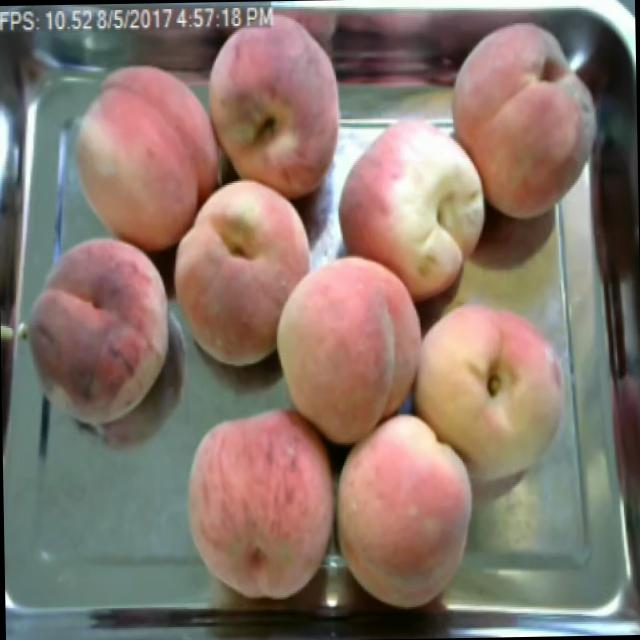Fruit: (434, 7, 612, 234), (174, 398, 352, 610), (324, 104, 502, 316), (402, 290, 584, 495), (260, 239, 426, 460), (323, 397, 487, 618), (65, 52, 236, 260), (16, 223, 178, 442), (164, 166, 328, 380), (198, 6, 352, 215)
